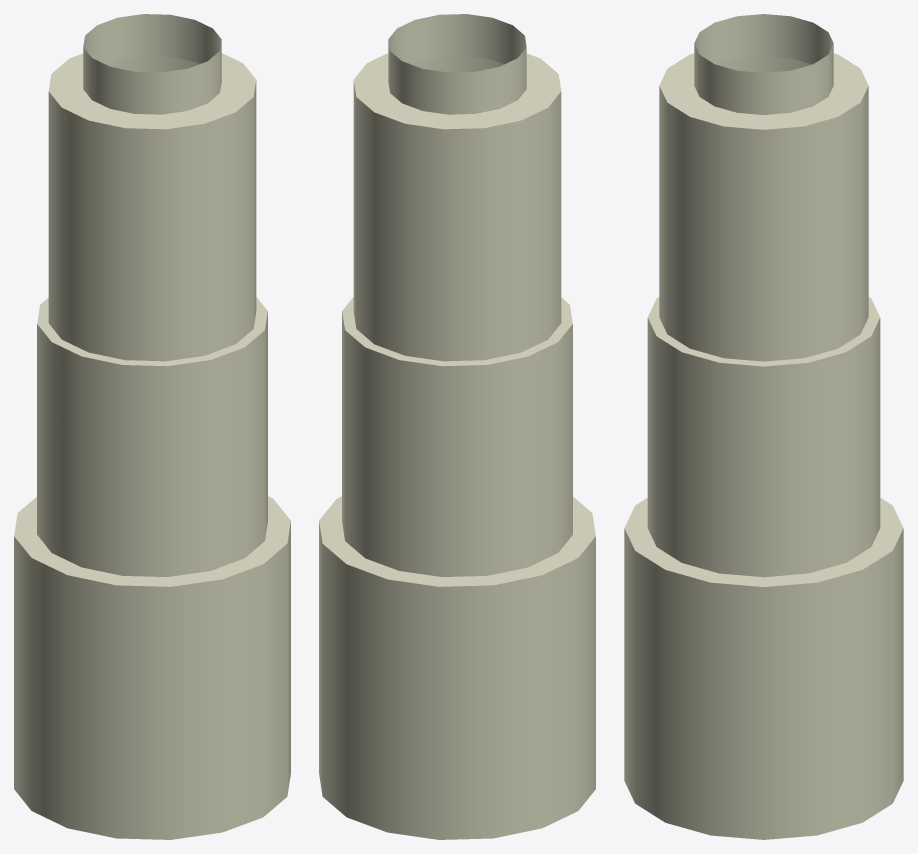
Rendered from original-3.obj.
The picture shows the model from 3 angles, left to right: view 1: azimuth 30°, elevation 25°; view 2: azimuth 150°, elevation 25°; view 3: azimuth 270°, elevation 25°; orthographic projection.
Parts seen in each view (by area): view 1: mesh3/mesh3-geometry#mesh3-geometry; view 2: mesh3/mesh3-geometry#mesh3-geometry; view 3: mesh3/mesh3-geometry#mesh3-geometry.
Part boxes in pixels (<box>): mesh3/mesh3-geometry#mesh3-geometry: <box>14,14,290,839</box>; mesh3/mesh3-geometry#mesh3-geometry: <box>319,14,595,839</box>; mesh3/mesh3-geometry#mesh3-geometry: <box>624,14,903,839</box>.
Bounding box in the file's own units: 0.1006 × 0.2934 × 0.1006.
